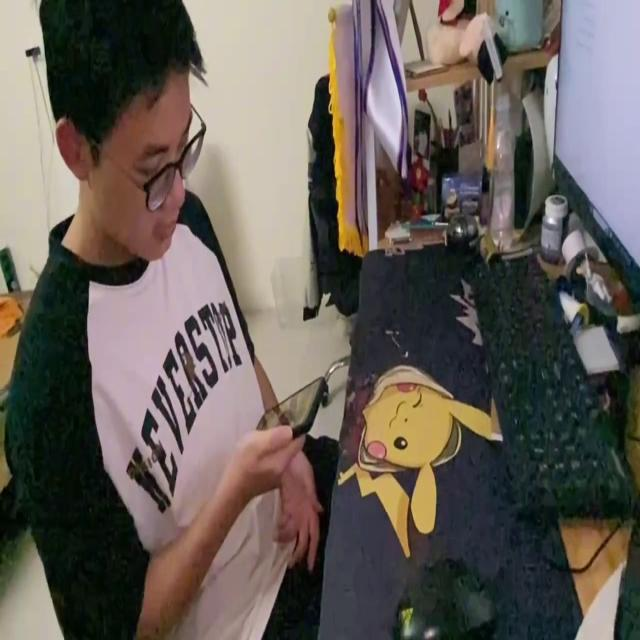laptop: (546, 0, 639, 317)
phone: (251, 372, 327, 441)
student: (9, 0, 337, 640)
